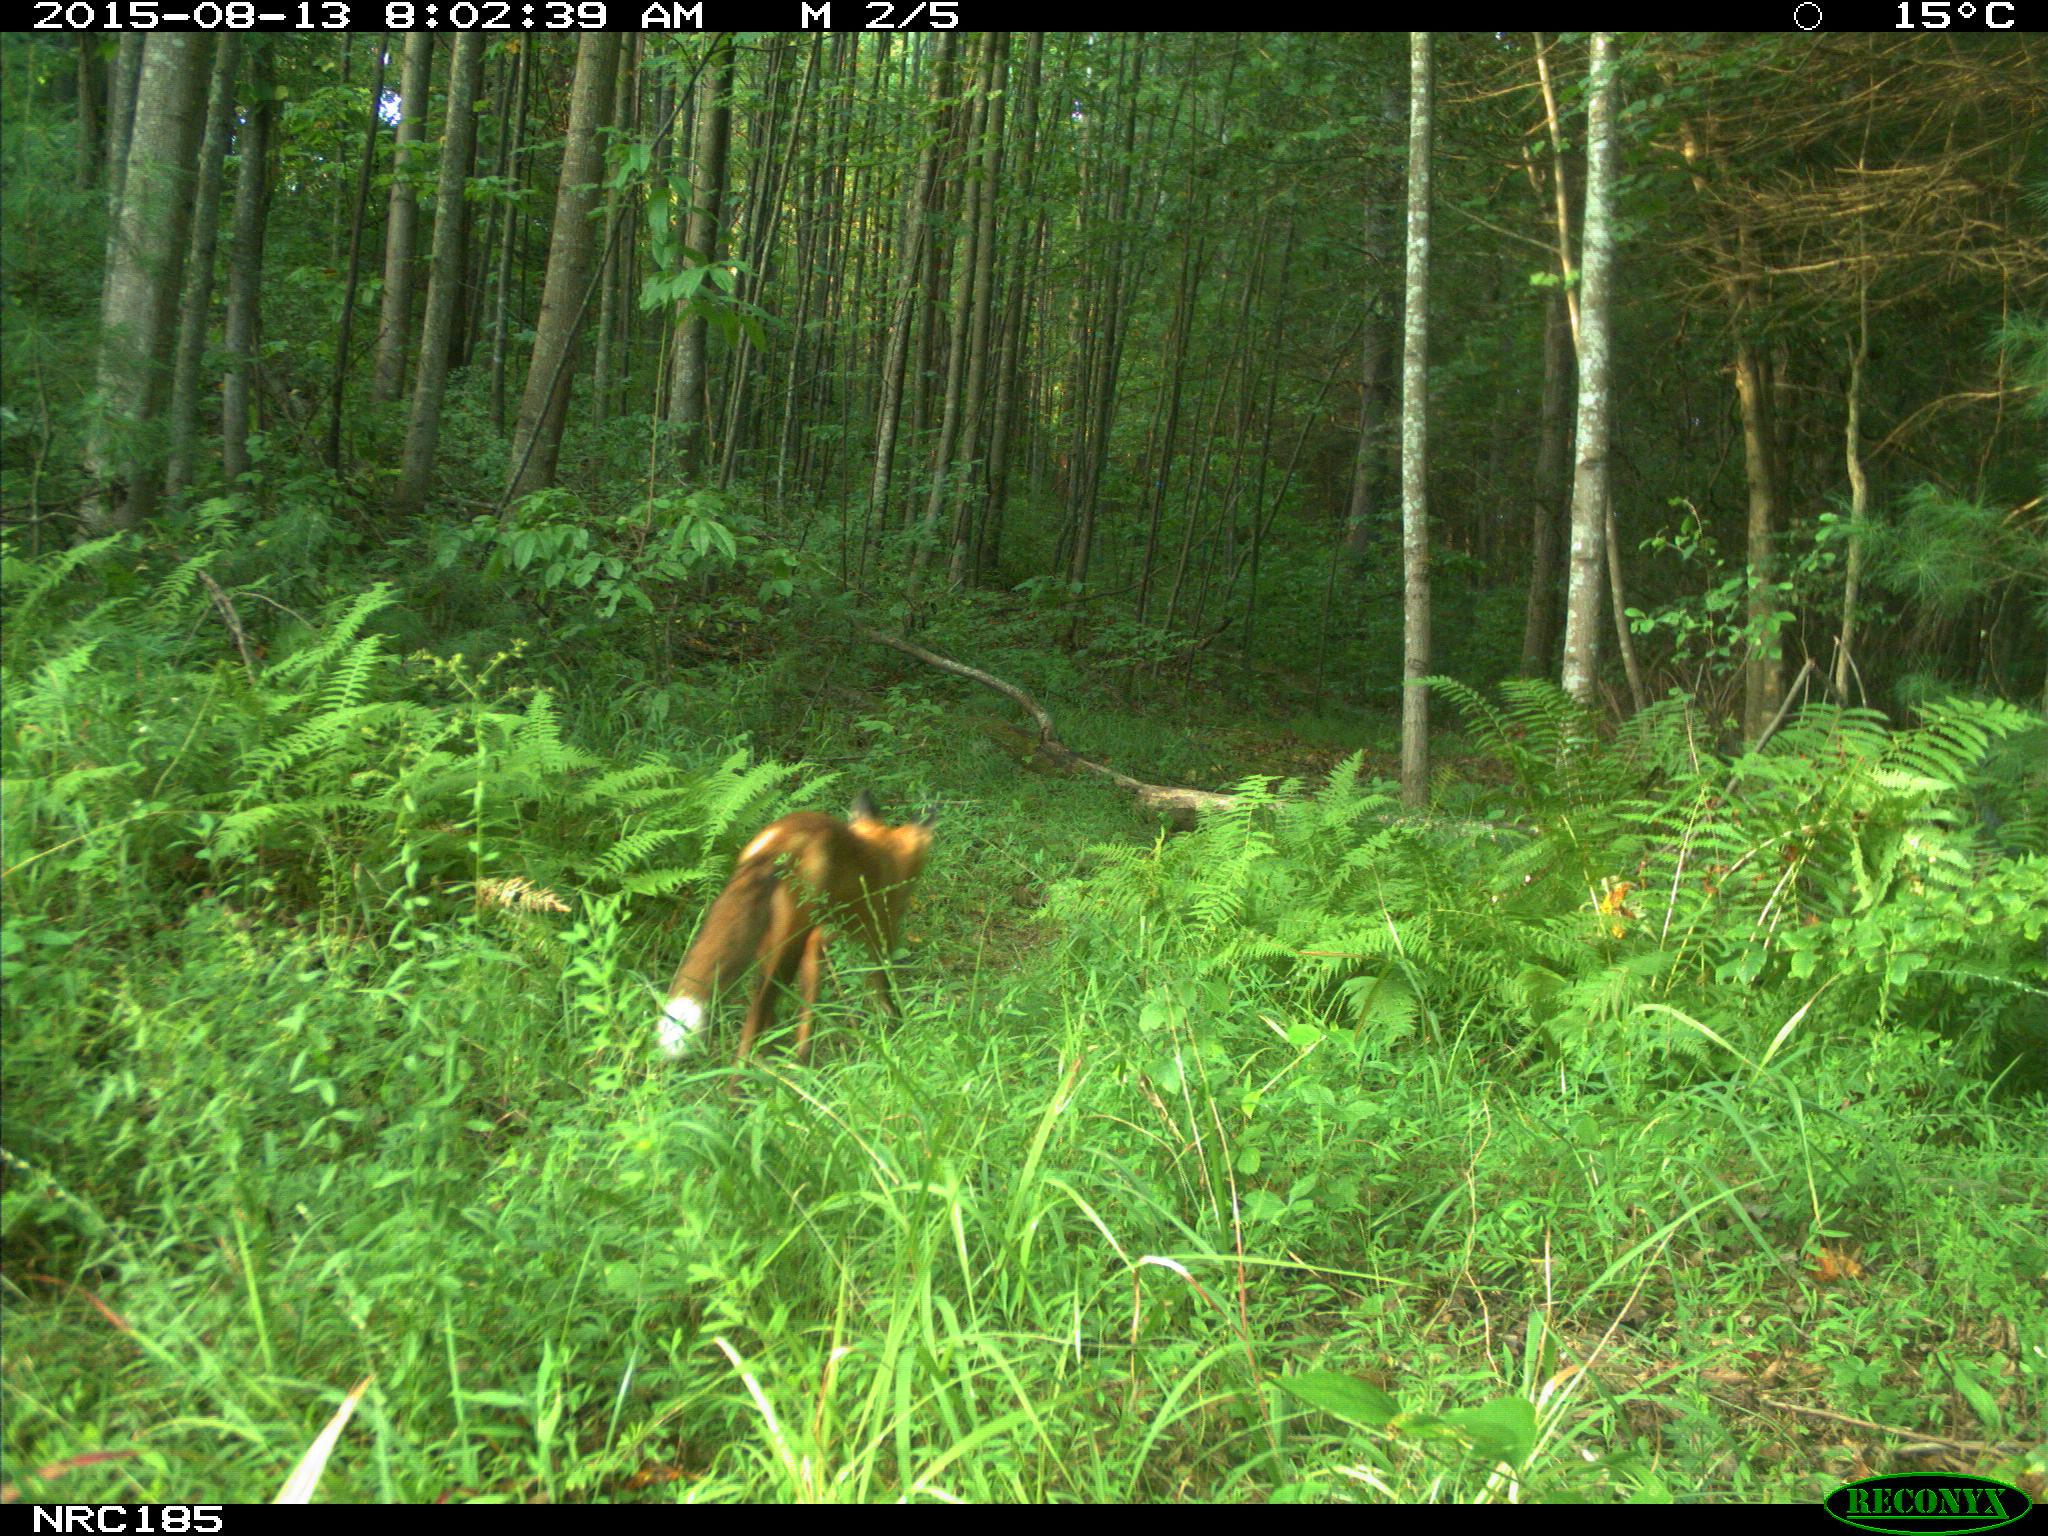Animal: (661, 786, 939, 1083)
